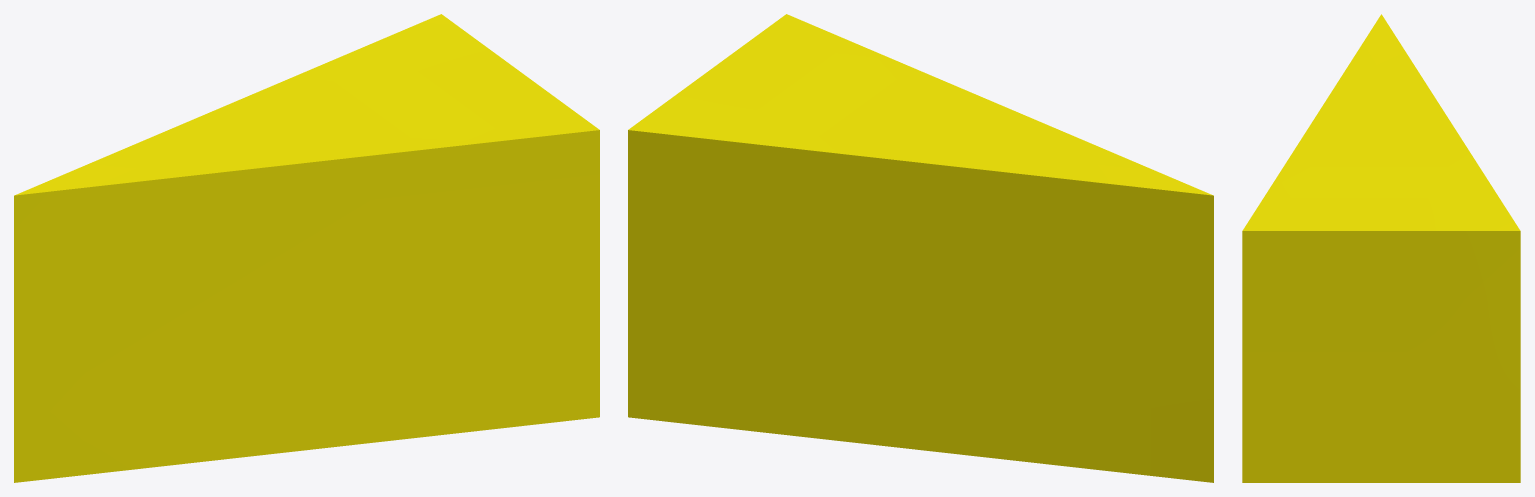
Rendered from cheese.fbx.
3 views of the same model, side by side, from view 1: azimuth 30°, elevation 25°; view 2: azimuth 150°, elevation 25°; view 3: azimuth 270°, elevation 25° (orthographic). The views are drawn at different scales.
Parts seen in each view (by area): view 1: cheese; view 2: cheese; view 3: cheese.
Boxes of the visible parts, box(x1,y1,x2,y2) form: cheese: box(14, 14, 599, 482); cheese: box(628, 14, 1213, 482); cheese: box(1242, 14, 1520, 482).
Bounding box in the file's own units: 1448 × 785 × 785.
